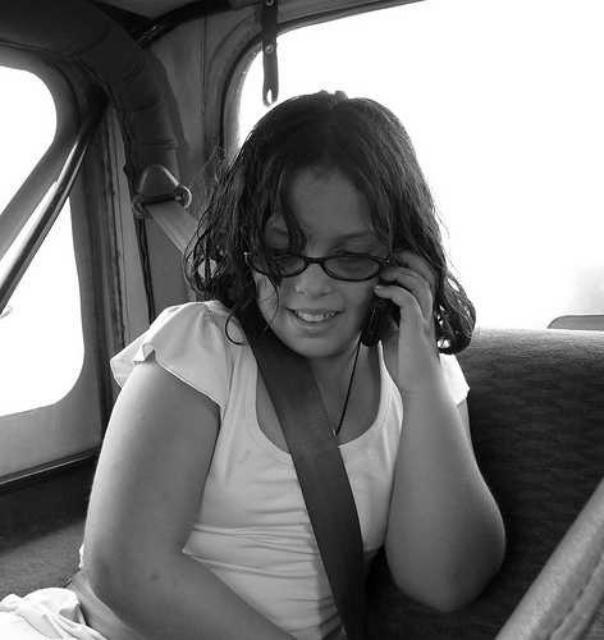Seatbelt: (128, 166, 368, 640)
